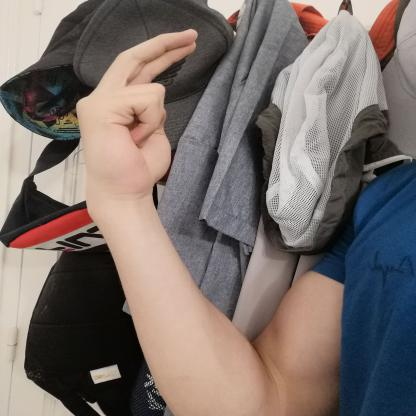ZAY: (68, 19, 213, 220)
